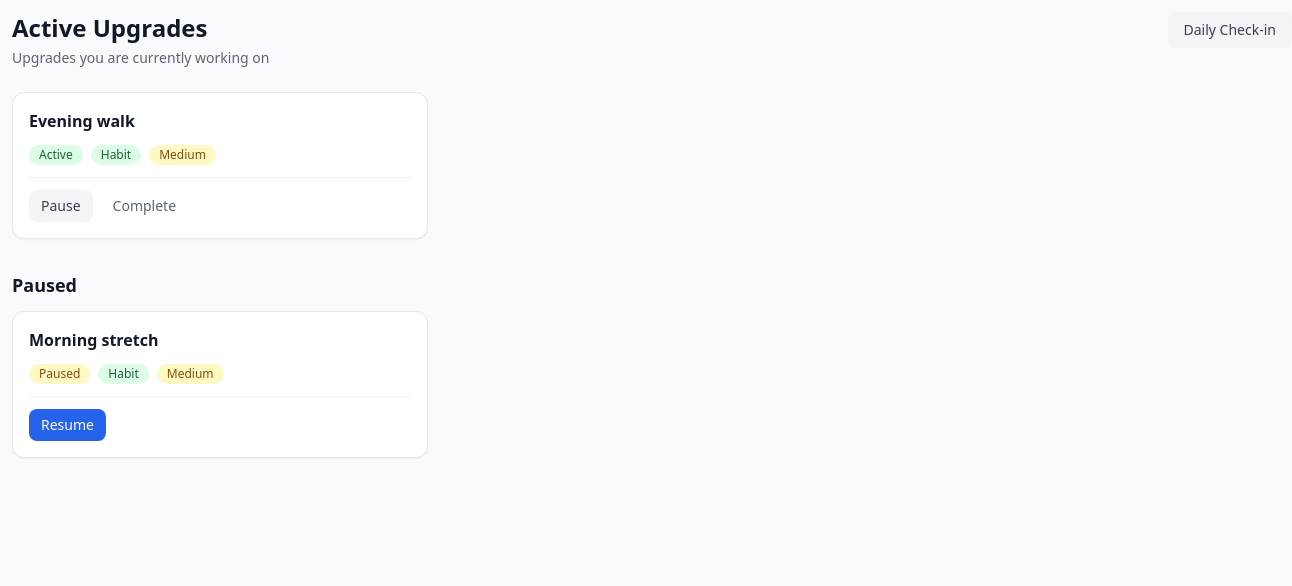
Test: ActiveUpgradesPage, paused upgrades › GivenTheApiRefusesAResume_WhenItIsPressed_ThenThePausedCardSaysWhyWithTheReference
Click the button "Resume ".
click(68, 425)  # box x1=29 y1=409 x2=106 y2=441
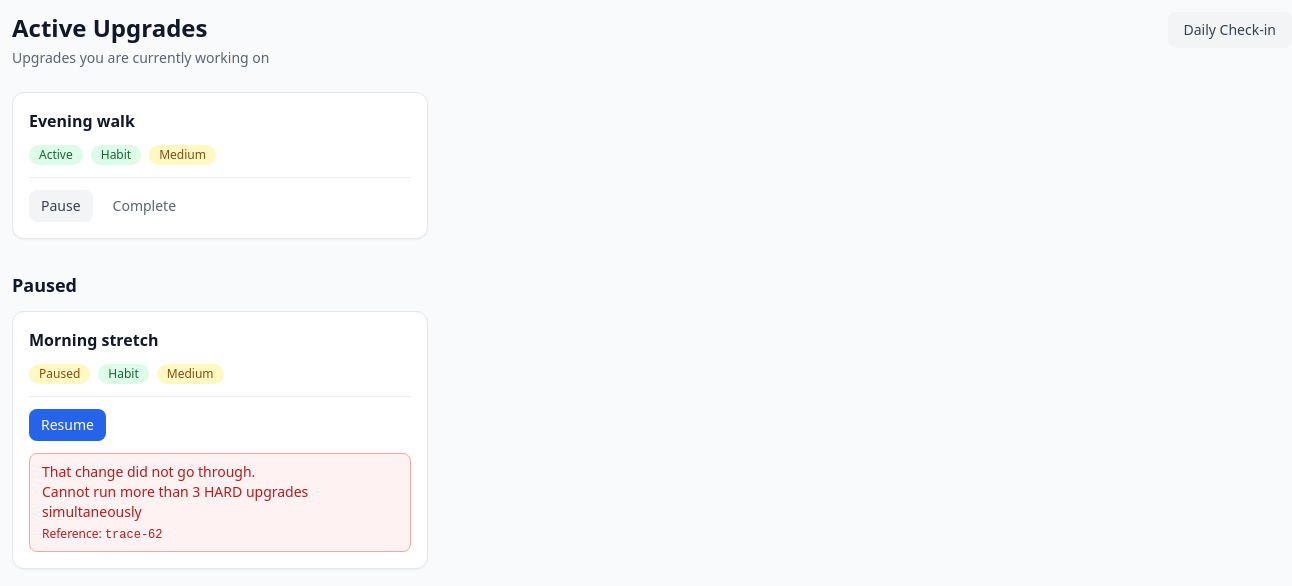
Expected: the message shows "Cannot run more than 3 HARD upgrades simultaneously", x1=42 y1=482 x2=308 y2=521
Expected: the message shows "trace-62", x1=105 y1=528 x2=162 y2=542
Expected: the number of messages is 1, x1=29 y1=453 x2=411 y2=552
